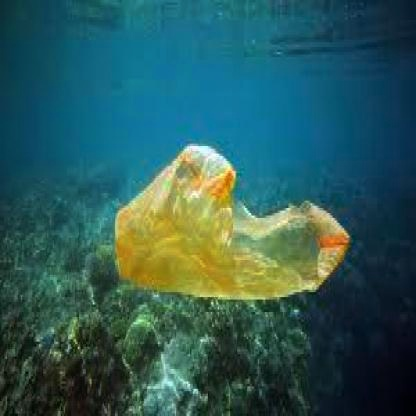pbag: (112, 141, 352, 300)
